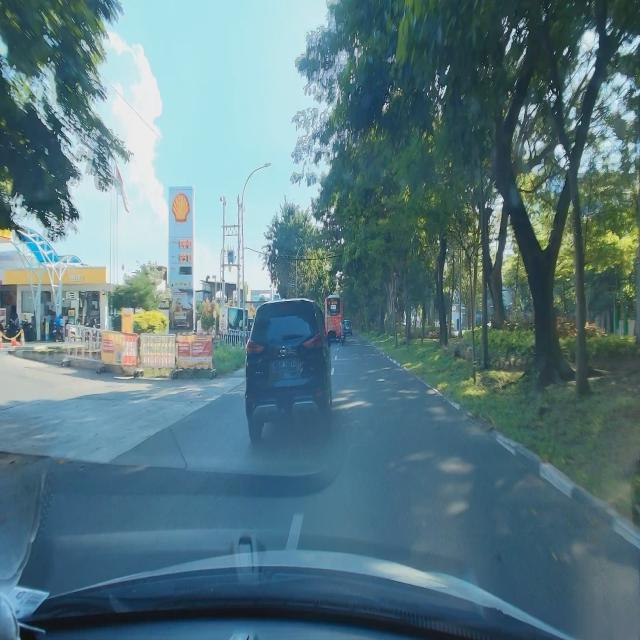car: (244, 296, 333, 444)
license-plate: (272, 358, 297, 374)
